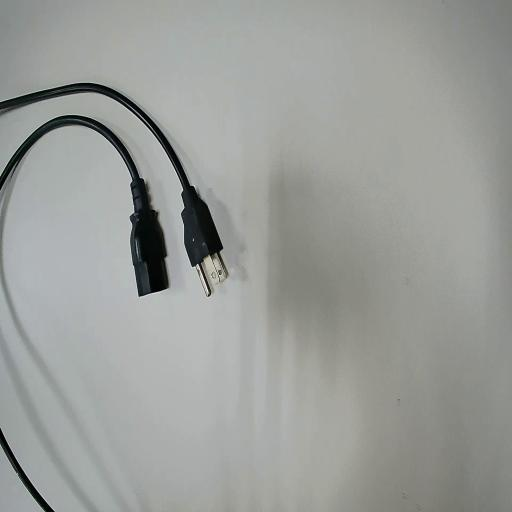wire: (0, 84, 221, 264), (0, 116, 167, 294)
